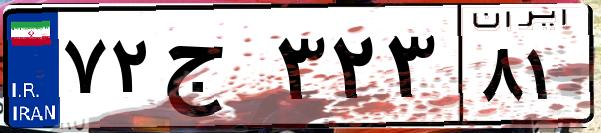1: (525, 38, 570, 115)
2: (330, 28, 385, 110), (110, 28, 158, 98)
3: (270, 28, 330, 110), (385, 28, 445, 110)
7: (57, 26, 110, 100)
8: (475, 38, 525, 113)
ج: (158, 20, 270, 120)
